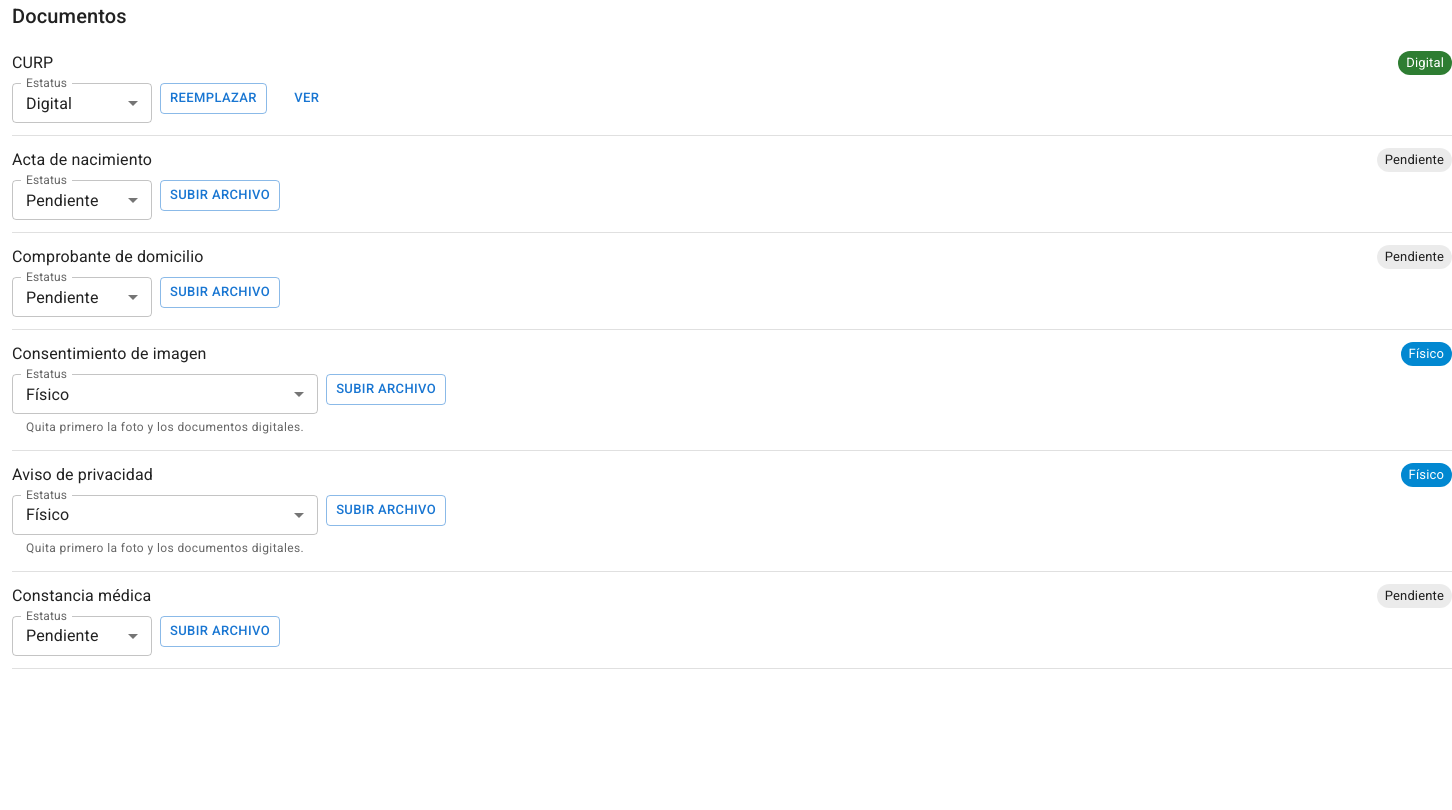
Scenario: Ver with a blocked popup shows a hint and does not sign
Click the button "Ver". click: click(307, 98)
box: [275, 83, 339, 114]
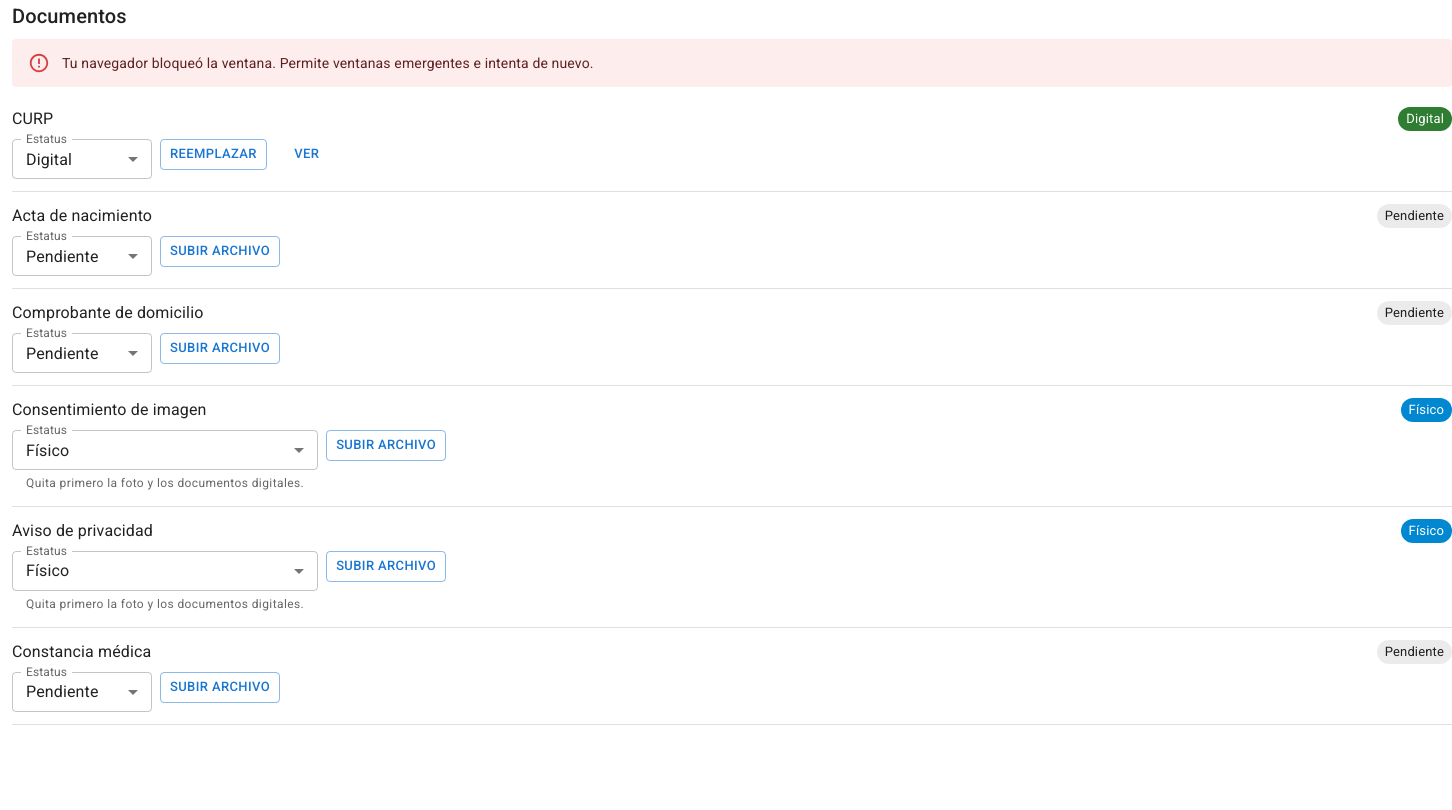
Now the message reads "Tu navegador bloqueó la ventana. Permite ventanas emergentes e intenta de nuevo.", box [62, 55, 594, 71]
